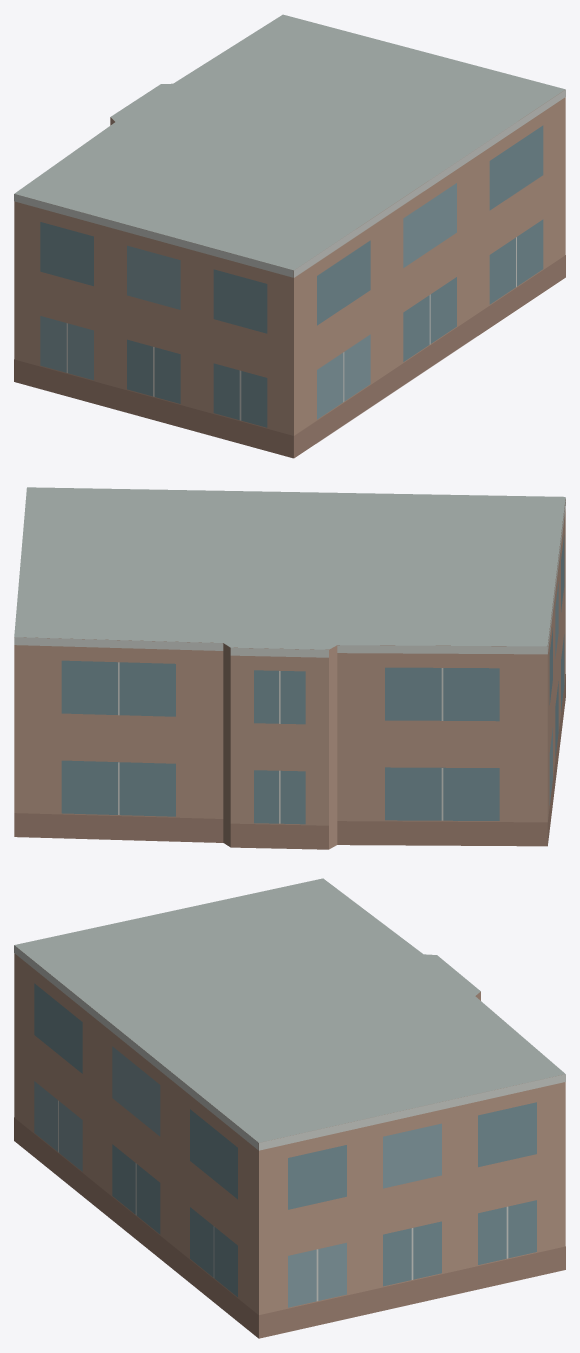
File: survey-upis-32745177.glb
The picture shows the model from 3 angles, top to bottom: view 1: azimuth 30°, elevation 25°; view 2: azimuth 150°, elevation 25°; view 3: azimuth 270°, elevation 25°; orthographic projection. The views are drawn at different scales.
Parts seen in each view (by area): view 1: survey-upis-32745177.tmp; view 2: survey-upis-32745177.tmp; view 3: survey-upis-32745177.tmp.
Boxes of the visible parts, x1,y1,x2,y2 form: survey-upis-32745177.tmp: (14,14,565,458); survey-upis-32745177.tmp: (14,487,565,849); survey-upis-32745177.tmp: (14,878,565,1338).
Bounding box in the file's own units: 17.69 × 6.1 × 15.59.
